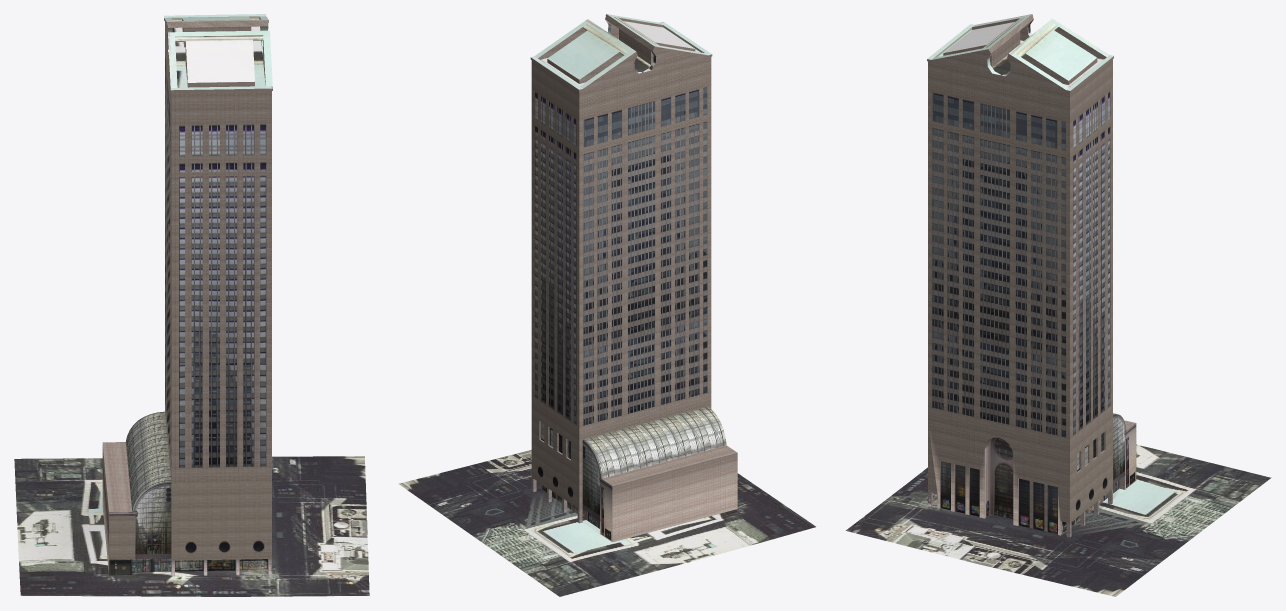
File: SonyTower.fbx
3 renders of one model, left to right at view 1: azimuth 30°, elevation 25°; view 2: azimuth 150°, elevation 25°; view 3: azimuth 270°, elevation 25°, orthographic. The views are drawn at different scales.
Parts seen in each view (by area): view 1: Model; view 2: Model; view 3: Model.
Boxes of the visible parts, box(x1,y1,x2,y2) form: Model: box(14, 14, 369, 596); Model: box(398, 14, 815, 596); Model: box(846, 14, 1271, 596).
Size of the model in its own units: 6448 by 7822 by 6367.
